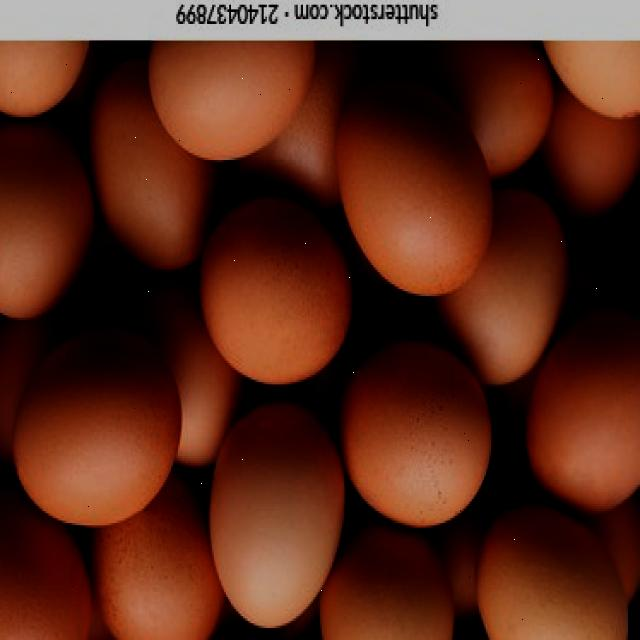Brown Egg: (330, 76, 493, 302), (15, 316, 182, 534), (208, 403, 344, 636), (197, 193, 356, 390), (338, 353, 491, 536), (439, 183, 572, 391), (520, 289, 640, 516), (91, 66, 216, 278), (84, 463, 224, 640), (143, 37, 316, 162), (474, 504, 628, 640), (411, 44, 554, 181), (0, 120, 93, 325), (315, 523, 458, 640), (539, 69, 636, 223), (0, 478, 89, 640), (0, 43, 96, 124)
